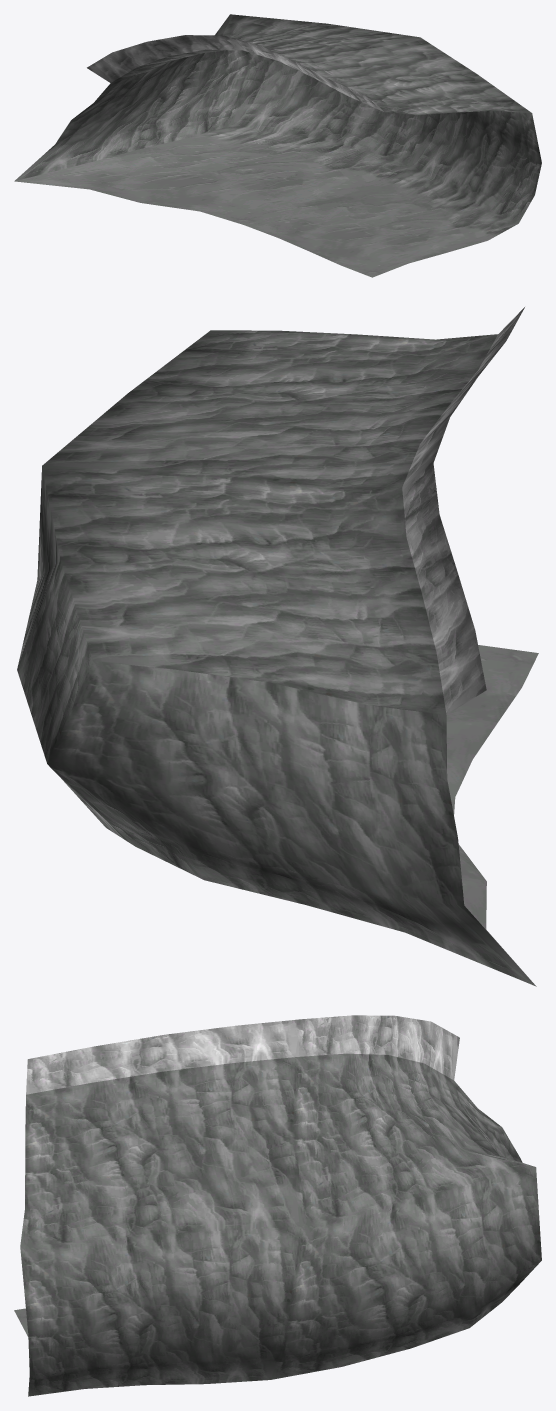
Rendered from SWORDLIGHT20_PS-AREA03_22.fbx.
The picture shows the model from 3 angles, top to bottom: view 1: azimuth 30°, elevation 25°; view 2: azimuth 150°, elevation 25°; view 3: azimuth 270°, elevation 25°; orthographic projection. The views are drawn at different scales.
Visible parts, largest first — view 1: SWORDLIGHT20_PS-AREA03_22; view 2: SWORDLIGHT20_PS-AREA03_22; view 3: SWORDLIGHT20_PS-AREA03_22.
Part boxes in pixels (box(x1,y1,x2,y2)): SWORDLIGHT20_PS-AREA03_22: box(14, 14, 541, 277); SWORDLIGHT20_PS-AREA03_22: box(17, 307, 538, 986); SWORDLIGHT20_PS-AREA03_22: box(14, 1015, 541, 1396).
Bounding box in the file's own units: 138755 × 68627 × 125637.
4 materials, 4 textured.
